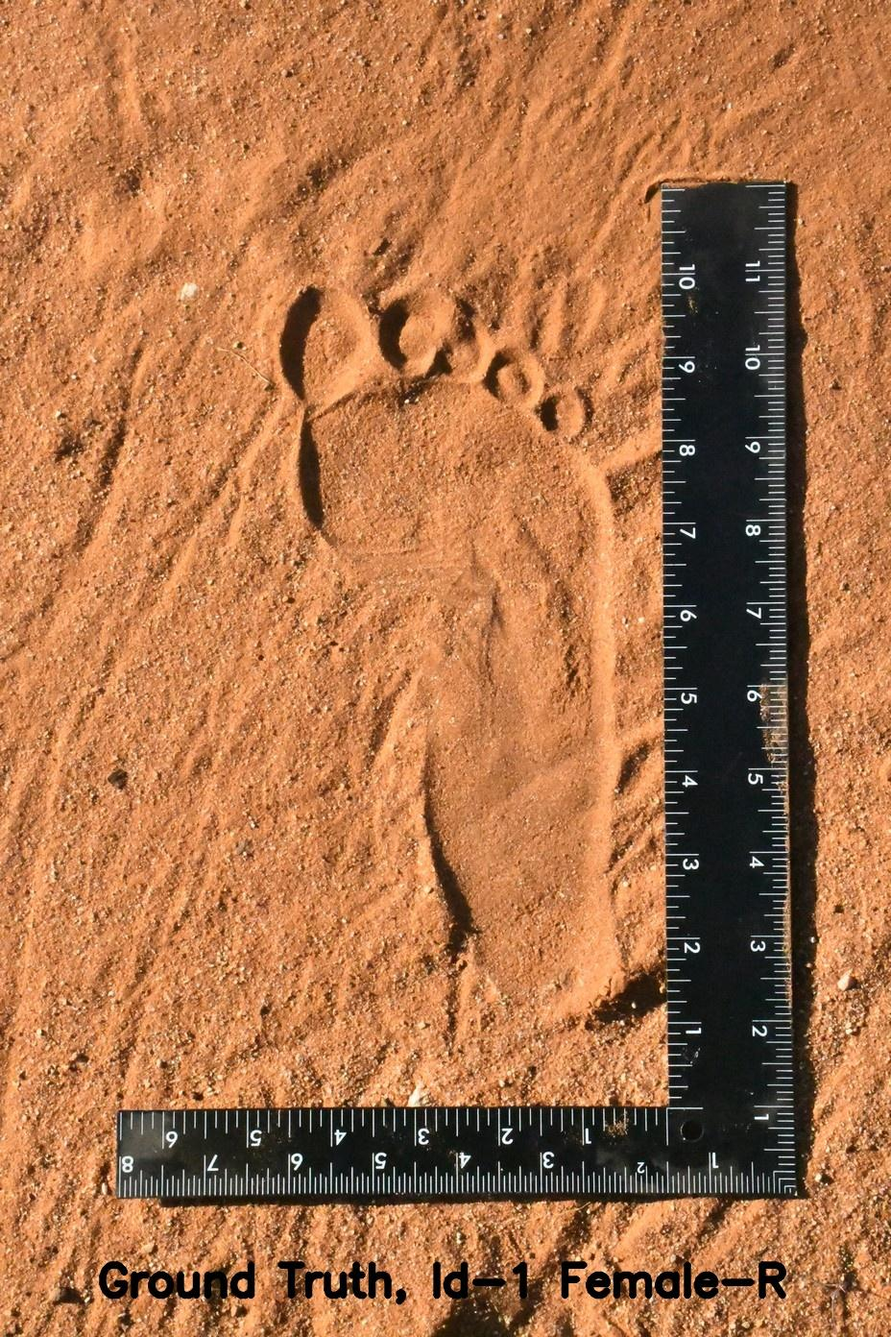human_foot_print: (256, 247, 660, 1044)
